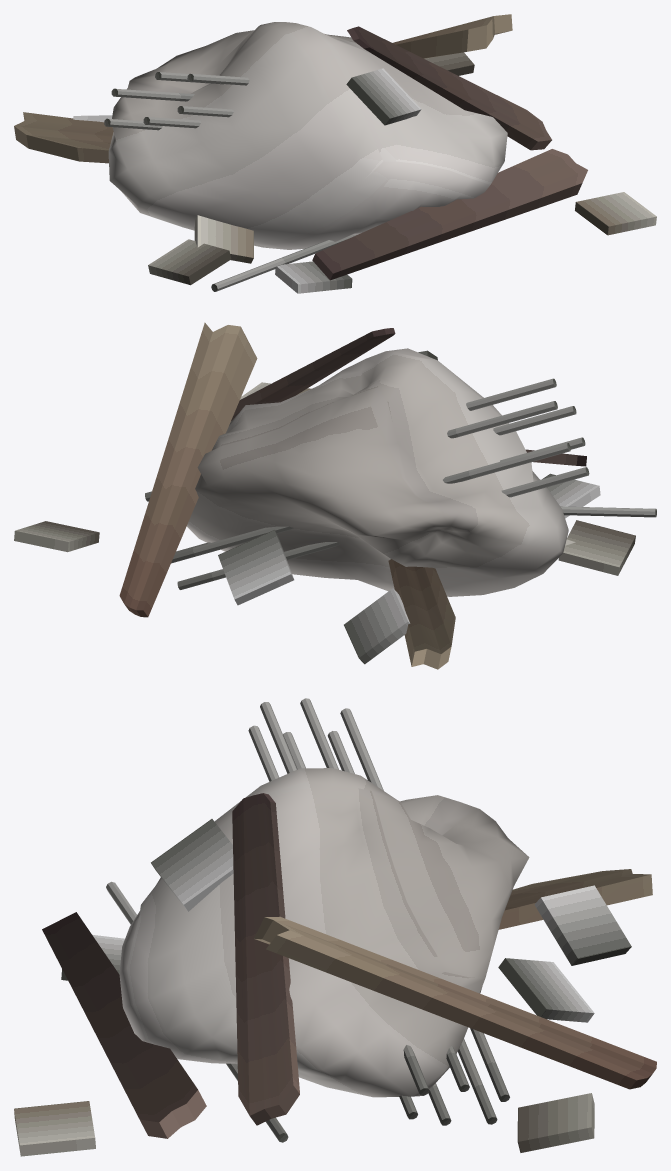
File: DL_Obj_Level3_Rubble2.fbx
3 views of the same model, one above another, from view 1: azimuth 30°, elevation 25°; view 2: azimuth 150°, elevation 25°; view 3: azimuth 270°, elevation 25° (orthographic). The views are drawn at different scales.
Visible parts, largest first — view 1: Level3_Rubble2; view 2: Level3_Rubble2; view 3: Level3_Rubble2.
Part boxes in pixels (<box>): Level3_Rubble2: <box>14,14,656,293</box>; Level3_Rubble2: <box>14,322,656,669</box>; Level3_Rubble2: <box>14,698,656,1156</box>.
Bounding box in the file's own units: 169 × 75.58 × 165.
